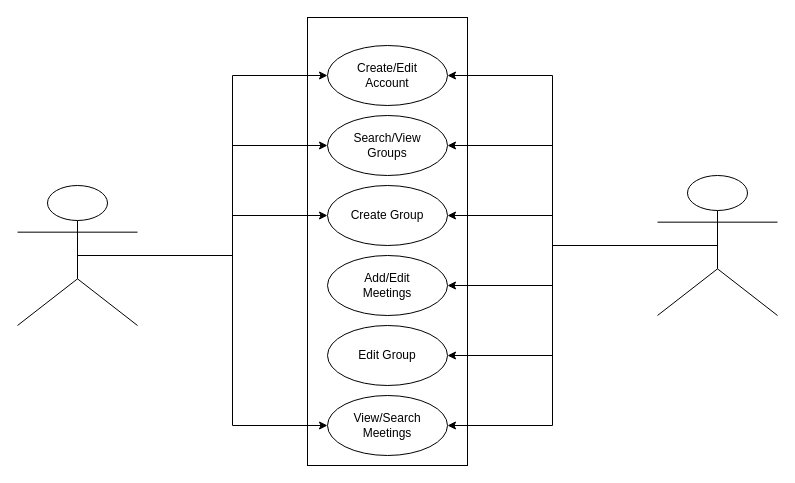
Some shapes in this 795 by 483 pixel diagram are drawn without their labels. The shapes that lost their labels are listed below. From the top down, each one's box as (x1, y1, x2, y2) in pixels, then its label:
(16, 184, 138, 326): Group Member
(306, 16, 468, 466): Find a Group Software
(656, 174, 778, 316): Group Leader
